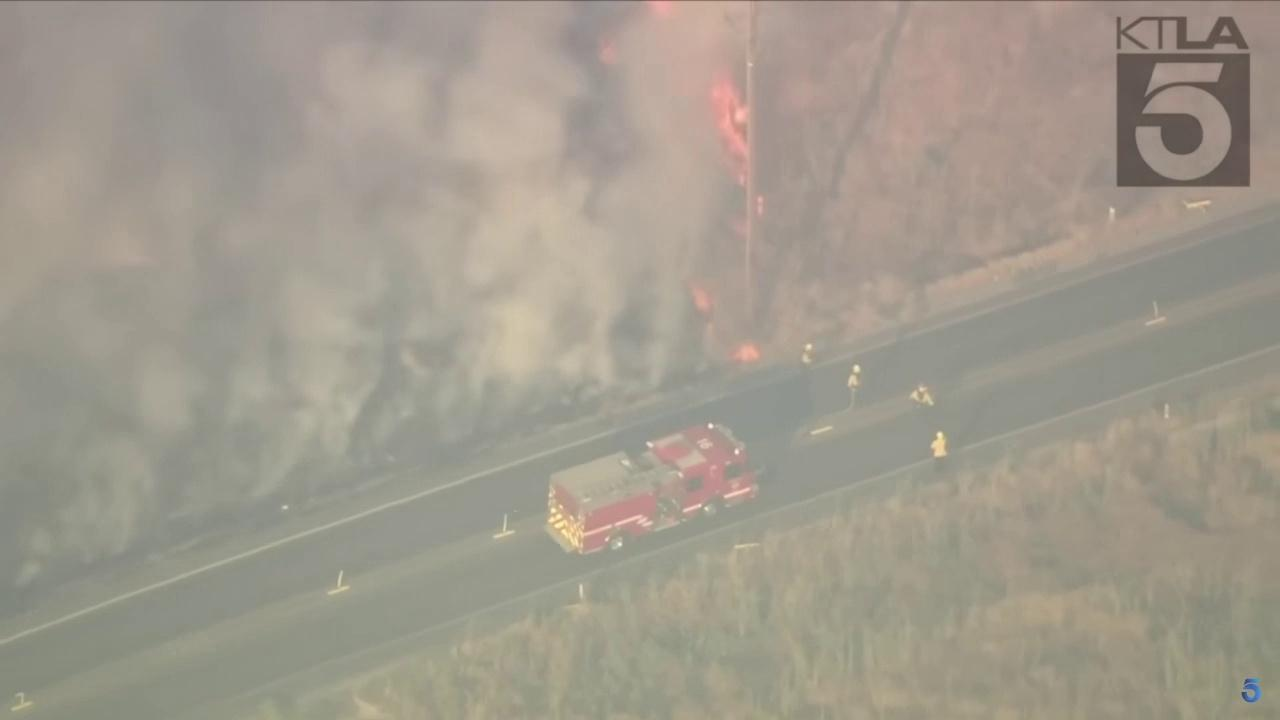fire: (701, 71, 750, 189), (684, 278, 715, 316), (728, 341, 761, 365), (598, 40, 620, 66), (647, 0, 677, 18), (754, 193, 766, 218)
smoke: (0, 0, 748, 596)
